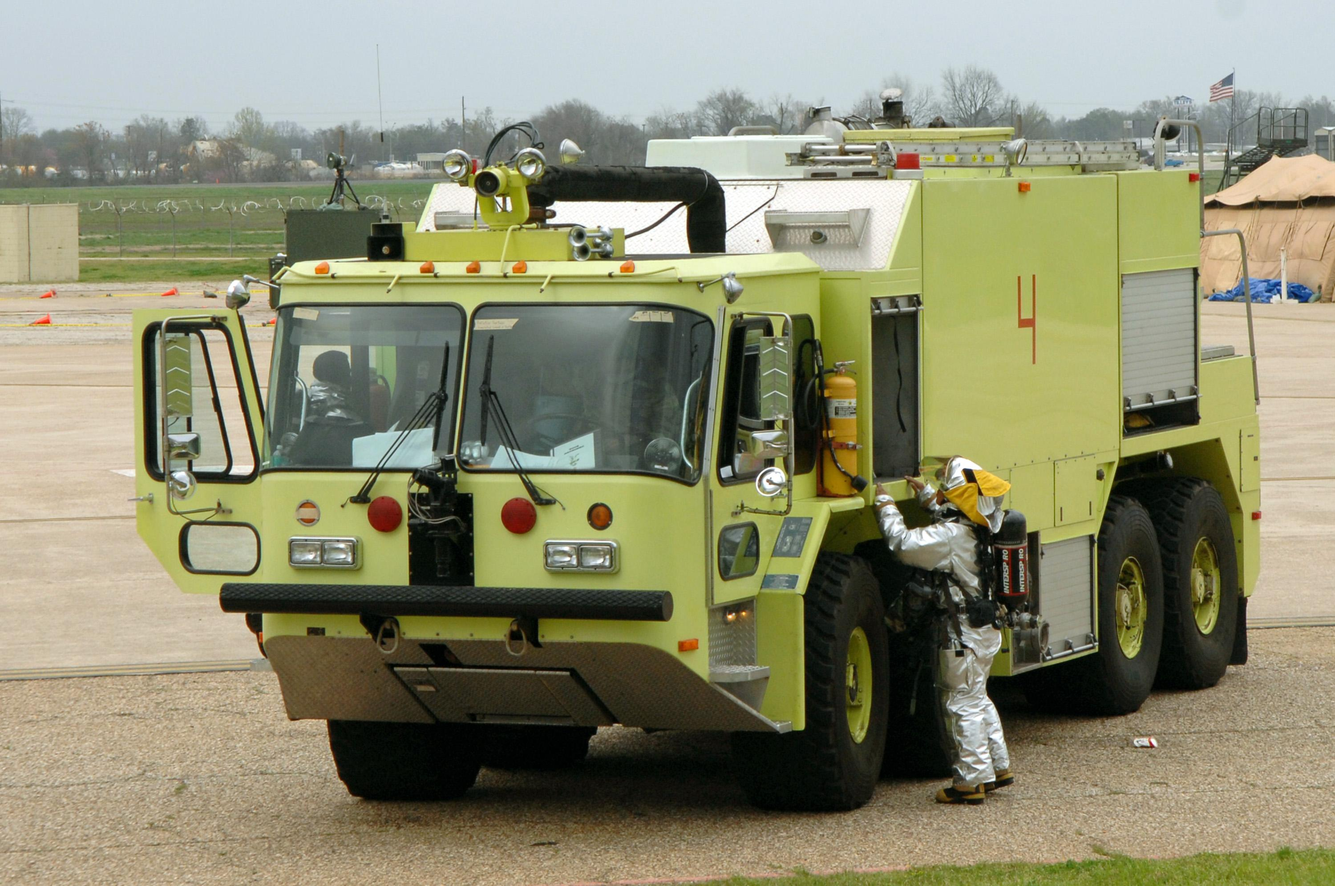Fire-engine: (130, 101, 1263, 811)
